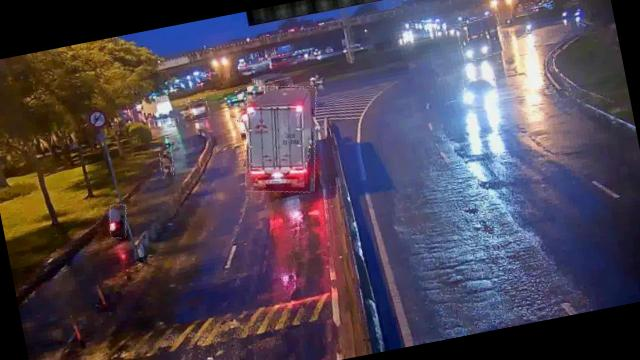Bike: (106, 203, 130, 240), (157, 150, 175, 178)
Car: (462, 75, 499, 113), (175, 97, 210, 123)
Truck: (232, 77, 330, 200), (456, 15, 508, 62)
